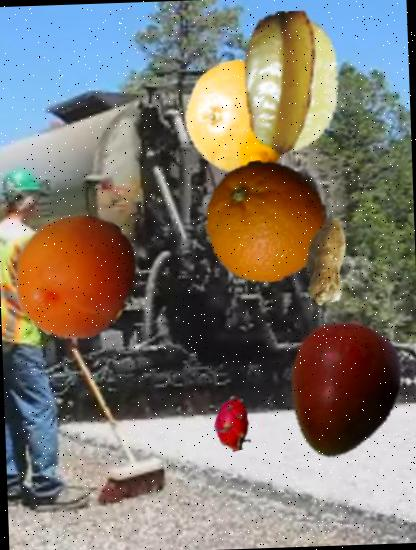Apricot: (10, 210, 143, 343)
Carambula: (216, 9, 367, 160)
Ginger: (281, 217, 373, 308)
Grapefruit: (181, 58, 304, 180)
Mango: (268, 314, 416, 463)
Orange: (203, 158, 330, 285)
Pitahaya: (204, 396, 261, 453)
